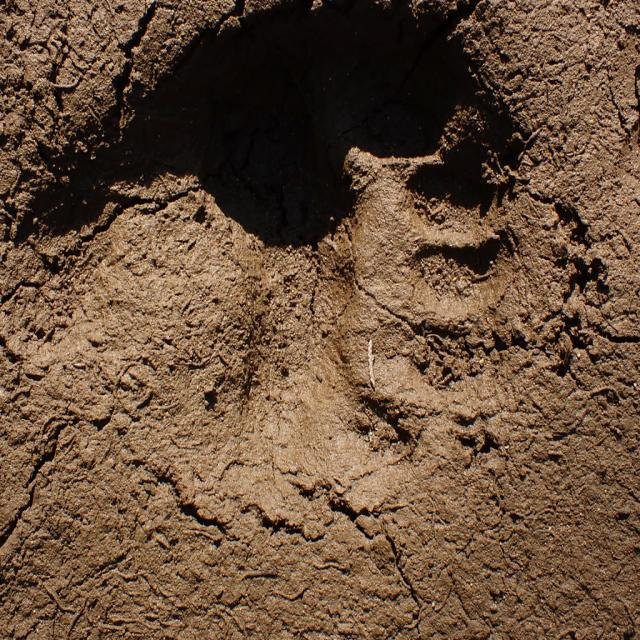bear: (31, 0, 535, 489)
